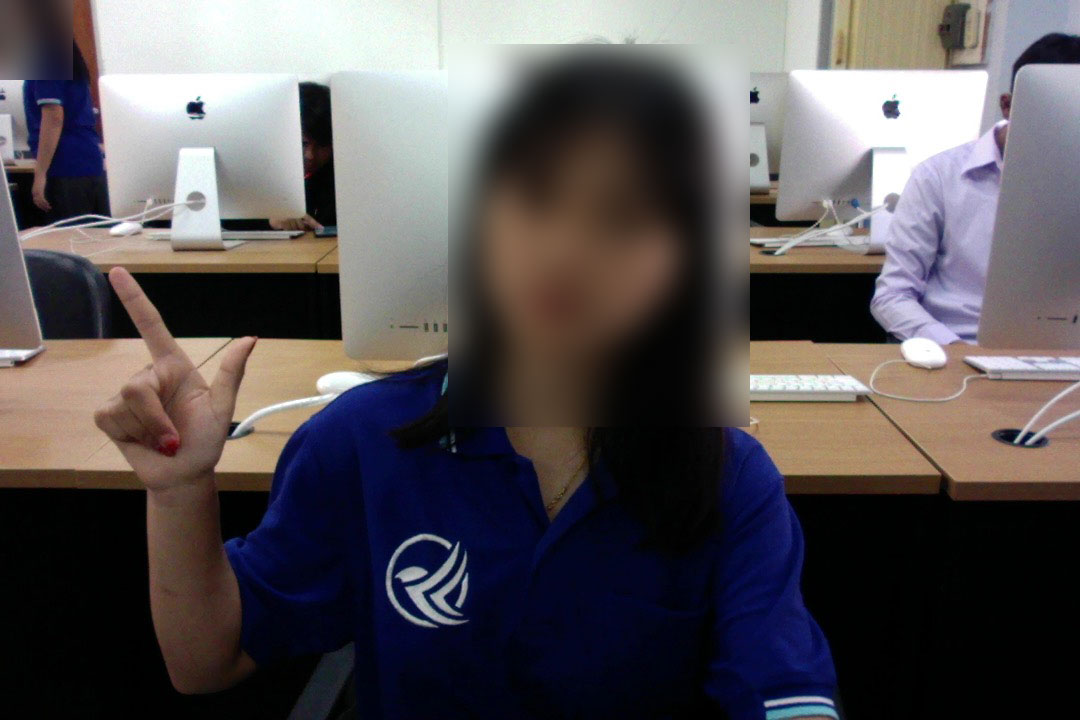lor: (65, 250, 280, 494)
